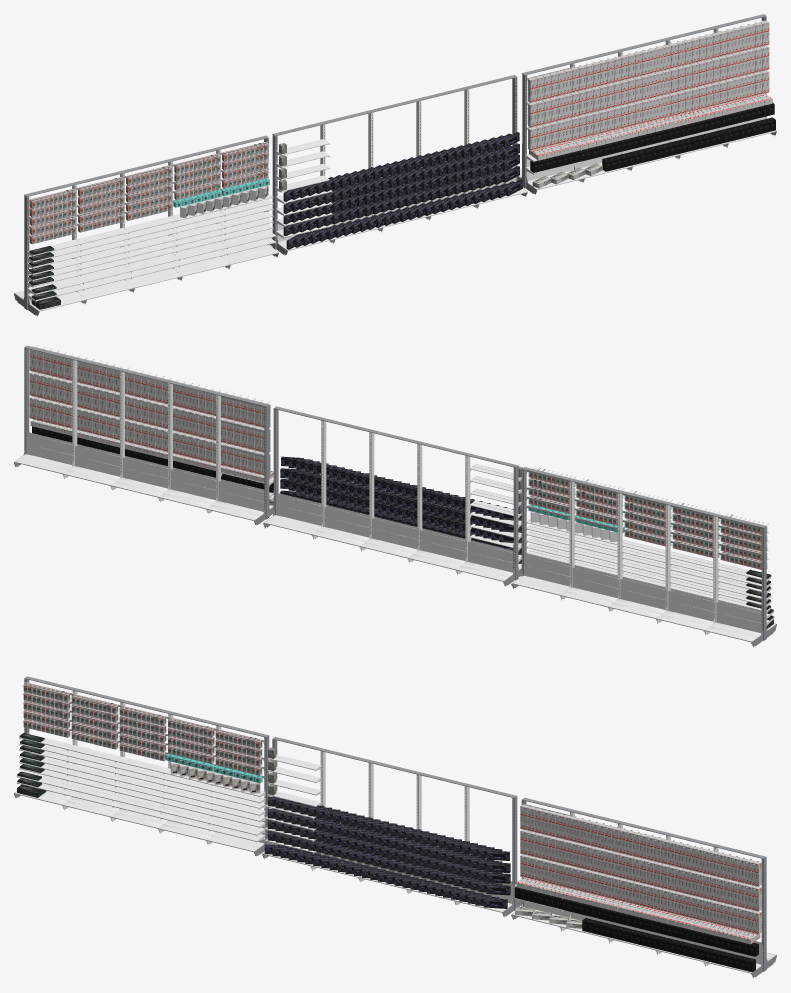
File: maus.glb
3 renders of one model, top to bottom at view 1: azimuth 30°, elevation 25°; view 2: azimuth 150°, elevation 25°; view 3: azimuth 330°, elevation 25°, orthographic.
Parts seen in each view (by area): view 1: Основа стеллажа 225.002, Основа стеллажа 225.001, Балка оранжевая с основанием 225.003, Cube.272, Куб.155, Куб.001, Полка 40.008, Полка 40.003, Полка 40.023, Полка 40.033, Полка 40.018, Полка 40.013 (+2 smaller); view 2: Основа стеллажа 225.002, Основа стеллажа 225.001, Балка оранжевая с основанием 225.003, Cube.272, Куб.155, Полка 40.023, Полка 40.033, Полка 40.018, Полка 40.013, Полка 40.028, Полка 40.038, Штанга 1м.014 (+2 smaller); view 3: Основа стеллажа 225.002, Основа стеллажа 225.001, Балка оранжевая с основанием 225.003, Cube.272, Куб.155, Куб.001, Полка 40.008, Полка 40.023, Полка 40.003, Полка 40.033, Полка 40.018, Полка 40.013 (+2 smaller).
Boxes of the visible parts, x1=… form: Основа стеллажа 225.002: x1=14, y1=135, x2=278, y2=316; Основа стеллажа 225.001: x1=269, y1=75, x2=527, y2=256; Балка оранжевая с основанием 225.003: x1=517, y1=14, x2=776, y2=195; Cube.272: x1=529, y1=93, x2=772, y2=160; Куб.155: x1=530, y1=103, x2=774, y2=172; Куб.001: x1=602, y1=117, x2=775, y2=171; Полка 40.008: x1=27, y1=230, x2=275, y2=295; Полка 40.003: x1=27, y1=238, x2=275, y2=301; Полка 40.023: x1=27, y1=211, x2=273, y2=275; Полка 40.033: x1=27, y1=199, x2=273, y2=263; Полка 40.018: x1=27, y1=218, x2=273, y2=281; Полка 40.013: x1=27, y1=224, x2=273, y2=287; Основа стеллажа 225.002: x1=511, y1=467, x2=776, y2=647; Основа стеллажа 225.001: x1=263, y1=406, x2=521, y2=587; Балка оранжевая с основанием 225.003: x1=14, y1=345, x2=273, y2=526; Cube.272: x1=30, y1=419, x2=273, y2=482; Куб.155: x1=32, y1=426, x2=273, y2=492; Полка 40.023: x1=526, y1=536, x2=771, y2=600; Полка 40.033: x1=526, y1=524, x2=771, y2=588; Полка 40.018: x1=526, y1=543, x2=771, y2=606; Полка 40.013: x1=526, y1=549, x2=771, y2=612; Полка 40.028: x1=526, y1=530, x2=771, y2=593; Полка 40.038: x1=526, y1=518, x2=771, y2=581; Штанга 1м.014: x1=526, y1=487, x2=761, y2=546; Основа стеллажа 225.002: x1=14, y1=676, x2=272, y2=857; Основа стеллажа 225.001: x1=262, y1=737, x2=521, y2=917; Балка оранжевая с основанием 225.003: x1=511, y1=797, x2=776, y2=978; Cube.272: x1=516, y1=877, x2=760, y2=944; Куб.155: x1=515, y1=887, x2=758, y2=956; Куб.001: x1=582, y1=918, x2=755, y2=972; Полка 40.008: x1=16, y1=770, x2=265, y2=836; Полка 40.023: x1=19, y1=756, x2=265, y2=816; Полка 40.003: x1=17, y1=782, x2=265, y2=842; Полка 40.033: x1=19, y1=743, x2=265, y2=803; Полка 40.018: x1=19, y1=762, x2=265, y2=822; Полка 40.013: x1=19, y1=768, x2=265, y2=828.
Bounding box in the file's own units: 15.5 × 2.27 × 0.9122.
17 materials, 12 textured.
